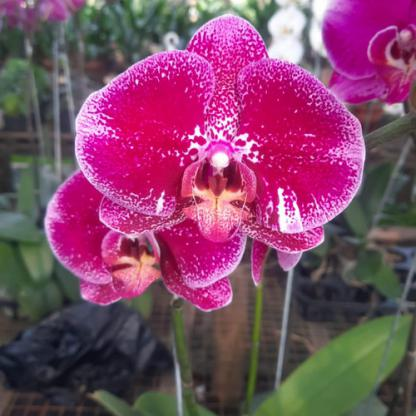ANGGREK: (38, 32, 393, 350)
